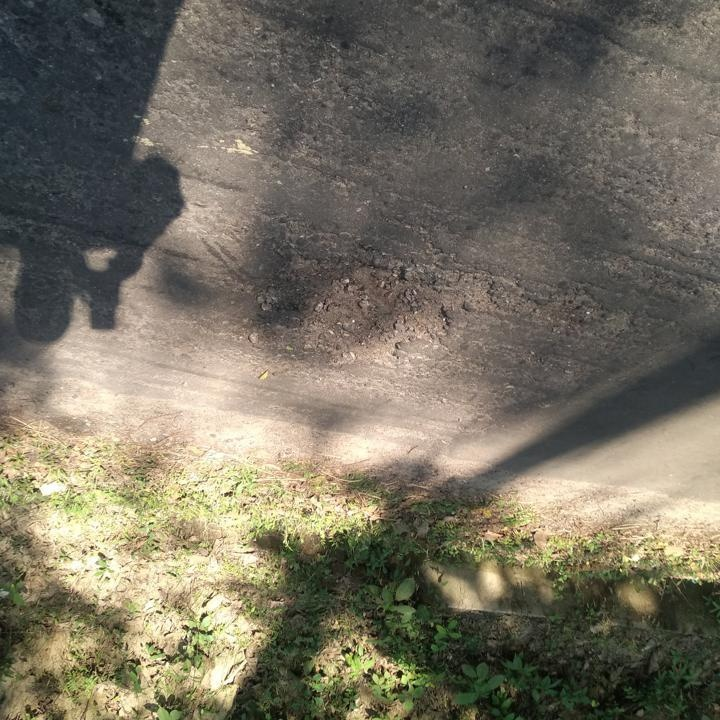pothole: (286, 248, 505, 372)
